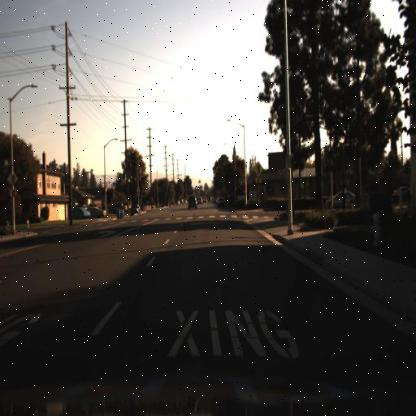car: (318, 186, 362, 214), (66, 204, 93, 223), (183, 192, 199, 216), (92, 203, 108, 219), (72, 208, 94, 219), (128, 201, 143, 217), (129, 201, 142, 217)
